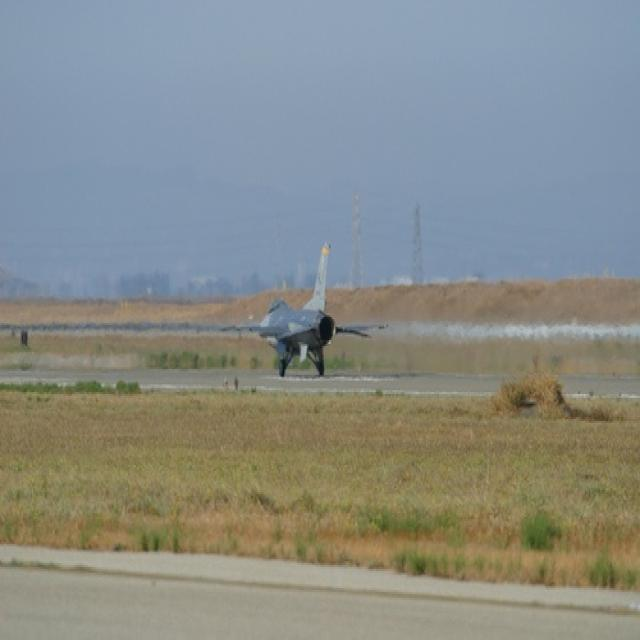aeroplane: (220, 238, 389, 375)
